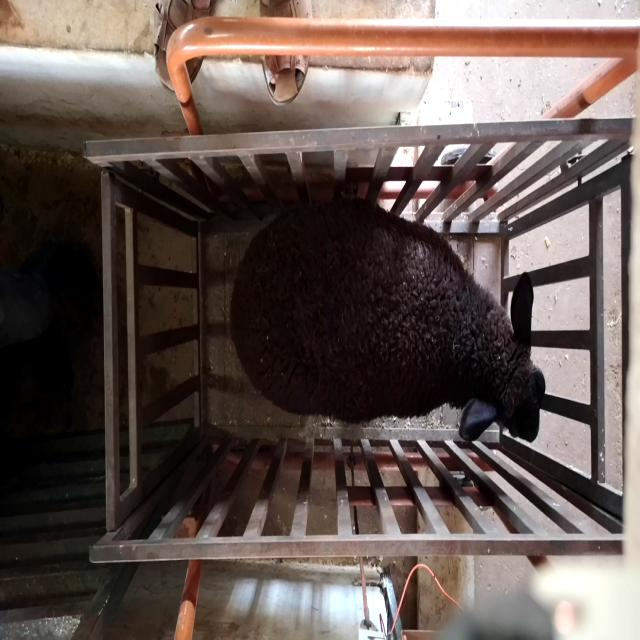sheep: (229, 197, 546, 443)
